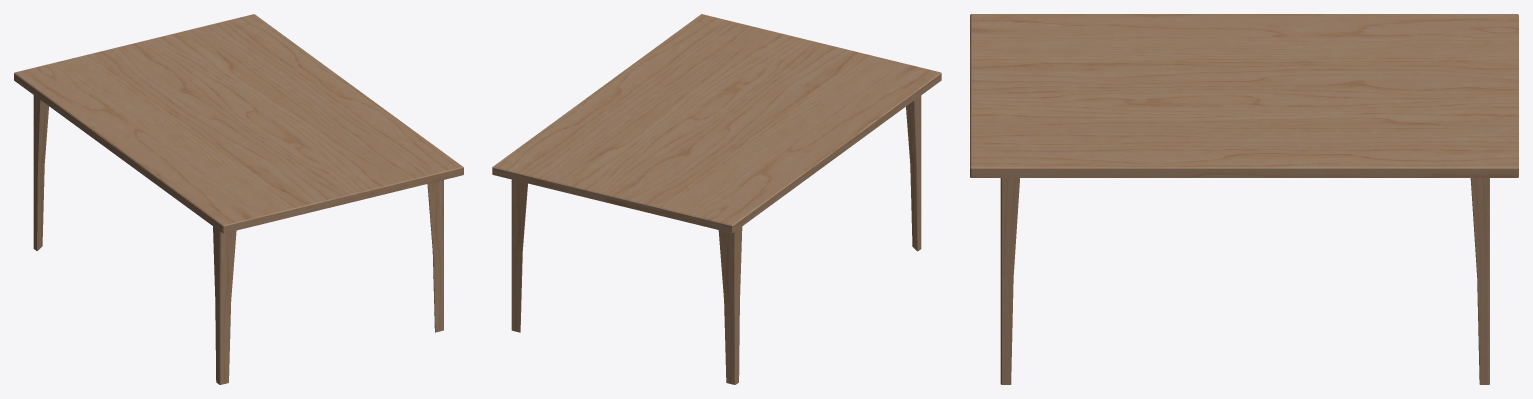
File: Table.fbx
3 renders of one model, left to right at view 1: azimuth 30°, elevation 25°; view 2: azimuth 150°, elevation 25°; view 3: azimuth 270°, elevation 25°, orthographic. The views are drawn at different scales.
Visible parts, largest first — view 1: Table_LOD0; view 2: Table_LOD0; view 3: Table_LOD0.
Part boxes in pixels (x1=…): Table_LOD0: x1=14, y1=14, x2=463, y2=384; Table_LOD0: x1=492, y1=14, x2=941, y2=384; Table_LOD0: x1=970, y1=14, x2=1518, y2=384.
Size of what is drawn, in the model's own units: 1.52 by 1.02 by 2.29.
Materials: 1 (1 with a texture image).
